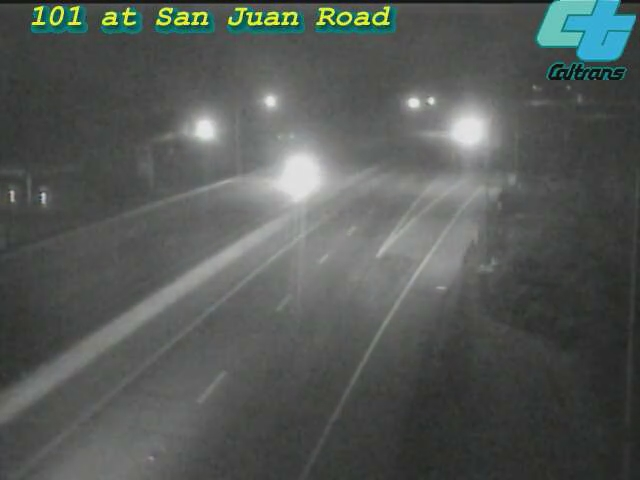vehicle: (261, 133, 341, 213), (439, 105, 489, 155)
